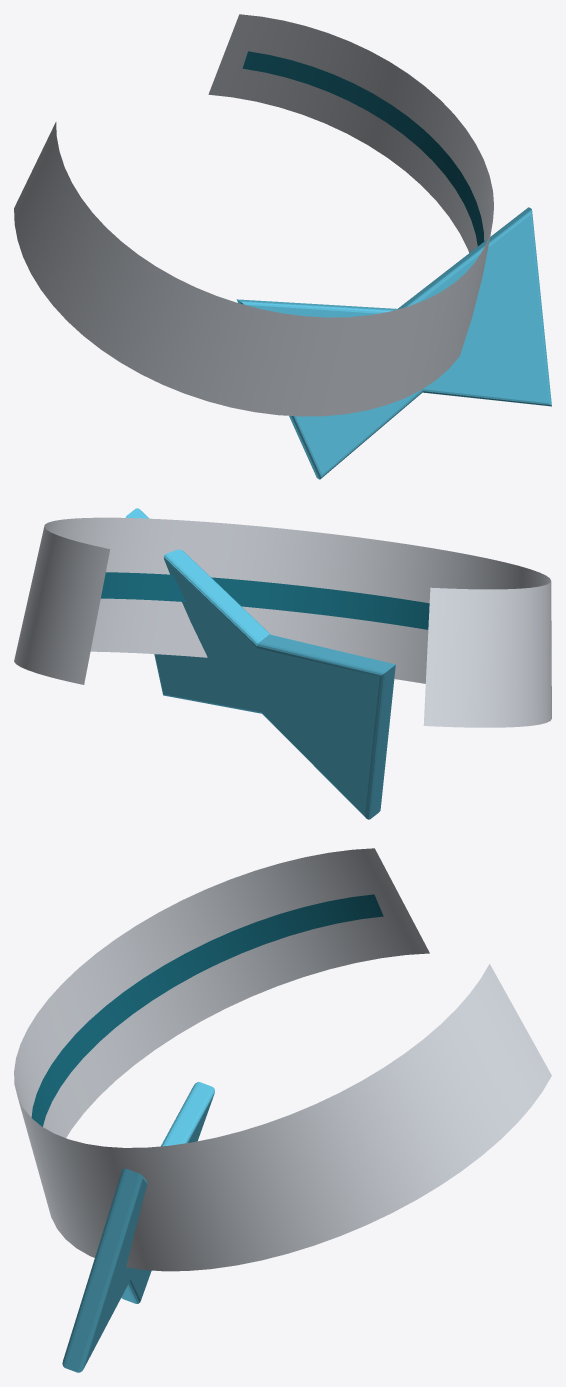
The model's file is collar-stand-and-butterfly.glb.
The picture shows the model from 3 angles, top to bottom: view 1: azimuth 30°, elevation 25°; view 2: azimuth 150°, elevation 25°; view 3: azimuth 270°, elevation 25°; orthographic projection. The views are drawn at different scales.
Parts seen in each view (by area): view 1: collar-stand-and-butterfly; view 2: collar-stand-and-butterfly; view 3: collar-stand-and-butterfly.
Boxes of the visible parts, bbox=[...] form: collar-stand-and-butterfly: bbox=[14, 14, 551, 479]; collar-stand-and-butterfly: bbox=[14, 508, 551, 819]; collar-stand-and-butterfly: bbox=[14, 848, 551, 1372].
Size of the model in its own units: 2.46 by 1.87 by 2.38.
